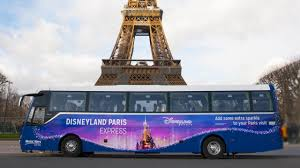bus: (18, 84, 284, 159)
